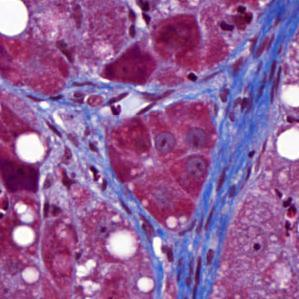inflammation: (120, 0, 157, 41), (273, 188, 299, 223), (86, 161, 111, 197), (68, 88, 107, 110), (160, 241, 177, 266)
